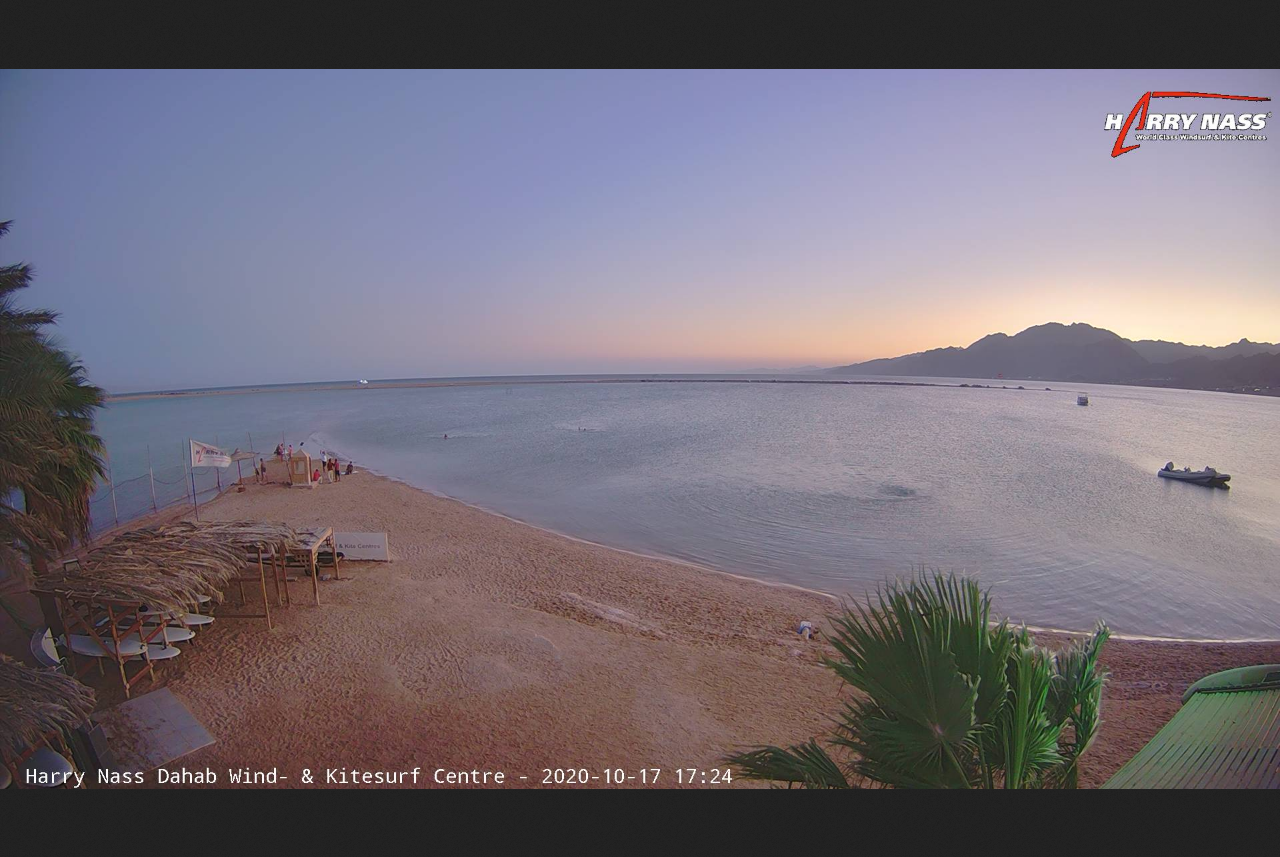yes: (187, 437, 233, 472)
